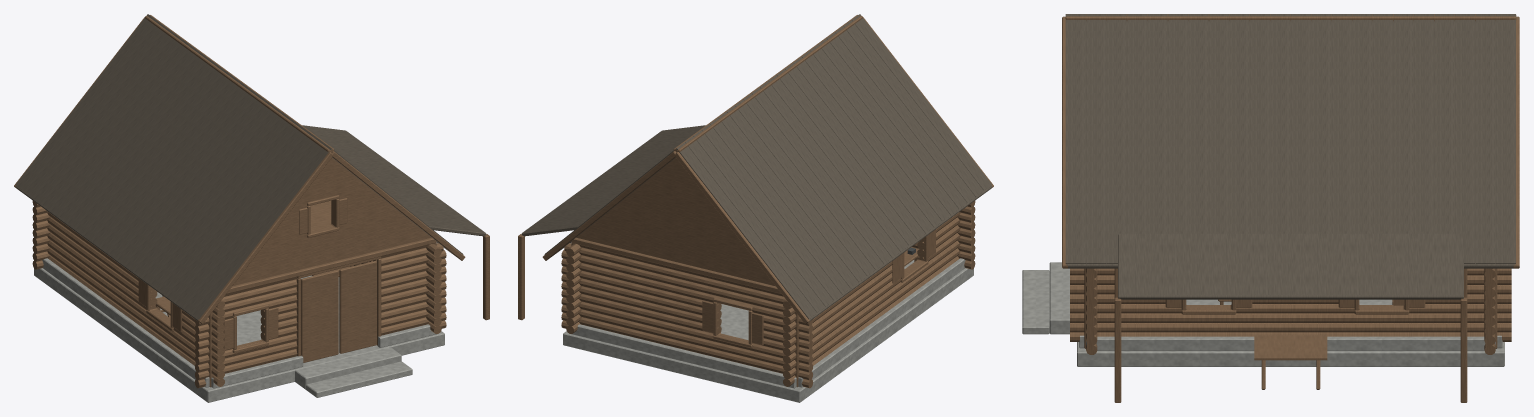
3 views of the same model, side by side, from view 1: azimuth 30°, elevation 25°; view 2: azimuth 150°, elevation 25°; view 3: azimuth 270°, elevation 25° (orthographic). The views are drawn at different scales.
Visible parts, largest first — view 1: W01_roof_left, W01_wall_front, W01_gable_front, W01_foundation, W01_wall_left, W01_canopy, W01_entry_leaf1, W01_entry_leaf0, W01_verge_-1_-1, W01_stonecourse_left, W01_stonecourse_front, W01_wall_right (+5 smaller); view 2: W01_roof_left, W01_wall_rear, W01_gable_rear, W01_wall_left, W01_foundation, W01_canopy, W01_stonecourse_rear, W01_verge_1_-1, W01_stonecourse_left, W01_ridge, W01_wall_right, W01_wall_front (+2 smaller); view 3: W01_roof_right, W01_canopy, W01_wall_right, W01_foundation, W01_stonecourse_right, sawhorse_leg, W01_canopy_post_3.5_-3.8, W01_ridge, W01_wall_rear, W01_wall_front, W01_verge_1_-1, W01_verge_-1_-1 (+1 smaller).
Boxes of the visible parts, <box> form: W01_roof_left: <box>15,14,331,320</box>; W01_wall_front: <box>194,195,446,388</box>; W01_gable_front: <box>232,158,431,286</box>; W01_foundation: <box>34,268,444,402</box>; W01_wall_left: <box>47,212,224,386</box>; W01_canopy: <box>302,125,486,236</box>; W01_entry_leaf1: <box>339,260,376,353</box>; W01_entry_leaf0: <box>301,270,338,362</box>; W01_verge_-1_-1: <box>197,151,465,324</box>; W01_stonecourse_left: <box>42,258,209,387</box>; W01_stonecourse_front: <box>211,324,436,388</box>; W01_wall_right: <box>350,244,441,333</box>; W01_roof_left: <box>676,14,992,320</box>; W01_wall_rear: <box>561,237,813,388</box>; W01_gable_rear: <box>576,158,775,286</box>; W01_wall_left: <box>783,212,960,386</box>; W01_foundation: <box>563,260,973,402</box>; W01_canopy: <box>521,125,705,236</box>; W01_stonecourse_rear: <box>571,324,796,388</box>; W01_verge_1_-1: <box>542,151,810,324</box>; W01_stonecourse_left: <box>798,258,965,387</box>; W01_ridge: <box>673,15,862,152</box>; W01_wall_right: <box>566,244,581,333</box>; W01_wall_front: <box>911,201,975,269</box>; W01_roof_right: <box>1065,14,1515,268</box>; W01_canopy: <box>1118,232,1463,299</box>; W01_wall_right: <box>1070,268,1511,341</box>; W01_foundation: <box>1022,262,1504,366</box>; W01_stonecourse_right: <box>1086,336,1495,350</box>; sawhorse_leg: <box>1254,335,1327,389</box>; W01_canopy_post_3.5_-3.8: <box>1114,268,1467,402</box>; W01_ridge: <box>1065,14,1516,21</box>; W01_wall_rear: <box>1484,268,1497,354</box>; W01_wall_front: <box>1084,268,1097,354</box>; W01_verge_1_-1: <box>1513,16,1519,268</box>; W01_verge_-1_-1: <box>1062,16,1067,268</box>.
Size of the model in its own units: 9.71 by 6.84 by 10.92.
4 materials, 3 textured.
